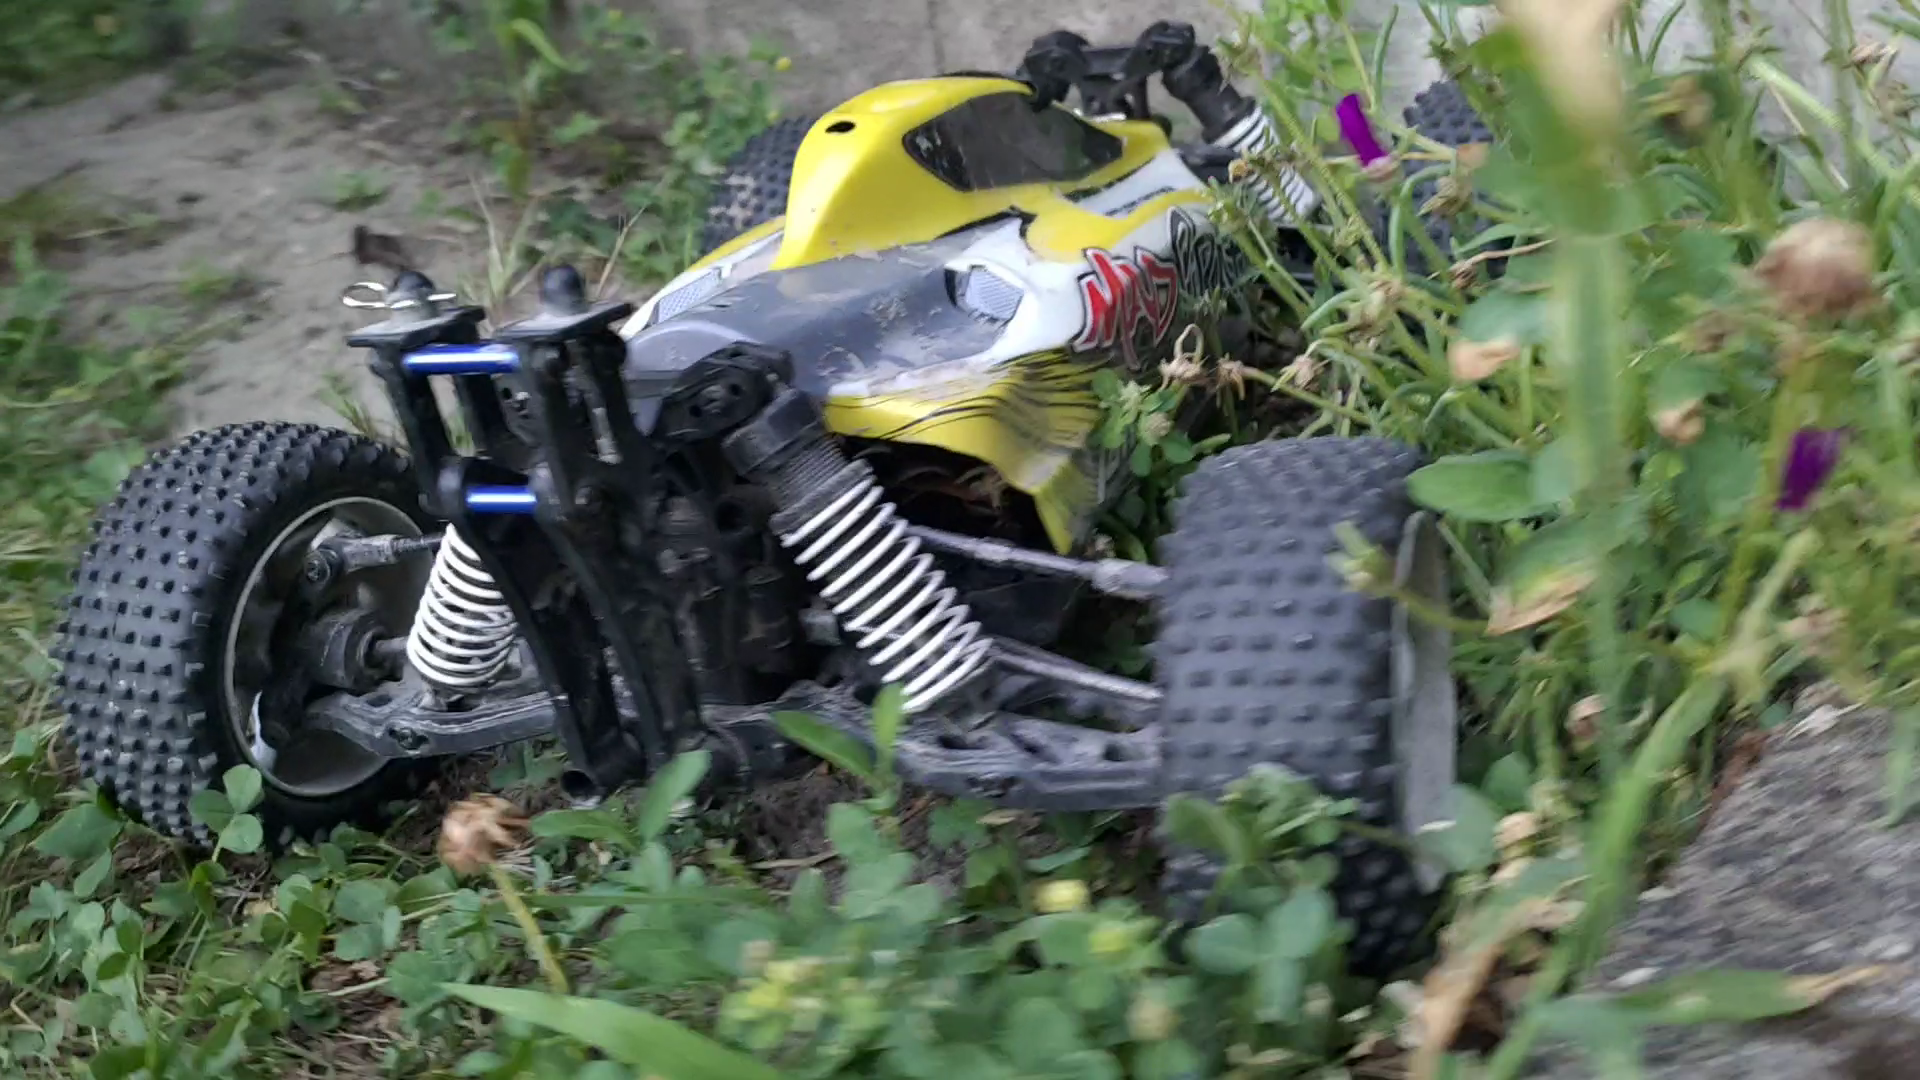buggy: (51, 17, 1460, 963)
